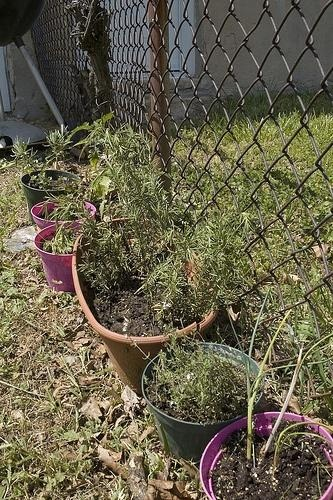pottedplant: (75, 120, 258, 390), (140, 341, 270, 461), (198, 404, 333, 500), (8, 130, 85, 197), (28, 221, 79, 291), (29, 197, 100, 226)
